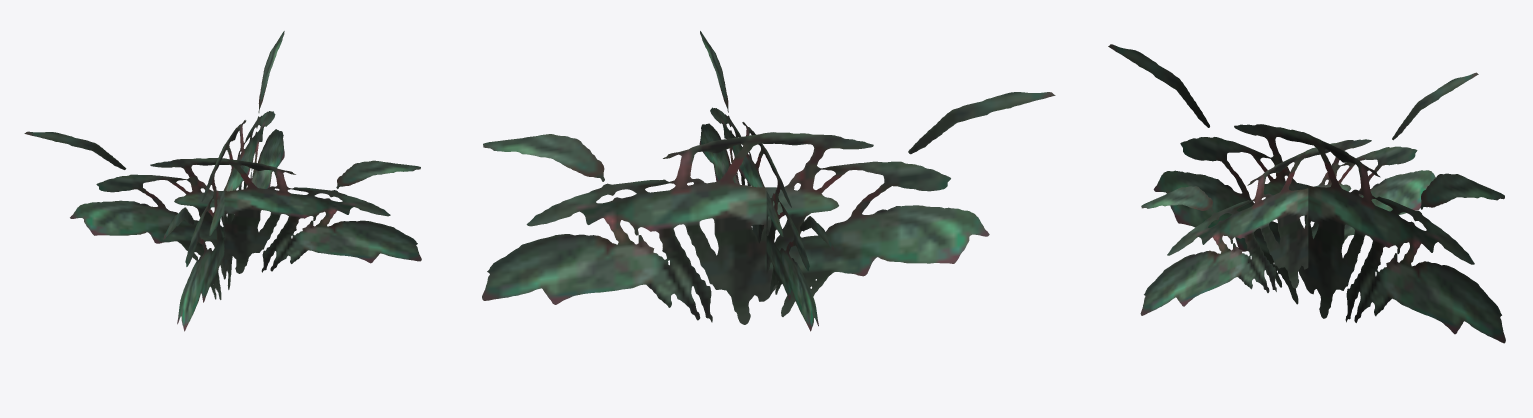
The model's file is leaf_dath_lessetplant_l2.fbx.
3 renders of one model, left to right at view 1: azimuth 30°, elevation 25°; view 2: azimuth 150°, elevation 25°; view 3: azimuth 270°, elevation 25°, orthographic. The views are drawn at different scales.
Visible parts, largest first — view 1: mesh_node; view 2: mesh_node; view 3: mesh_node.
Part boxes in pixels (left/top/right/bottom): mesh_node: left=24, top=31, right=421, bottom=331; mesh_node: left=482, top=31, right=1055, bottom=331; mesh_node: left=1108, top=44, right=1505, bottom=343.
Size of the model in its own units: 2.04 by 1.16 by 2.06.
